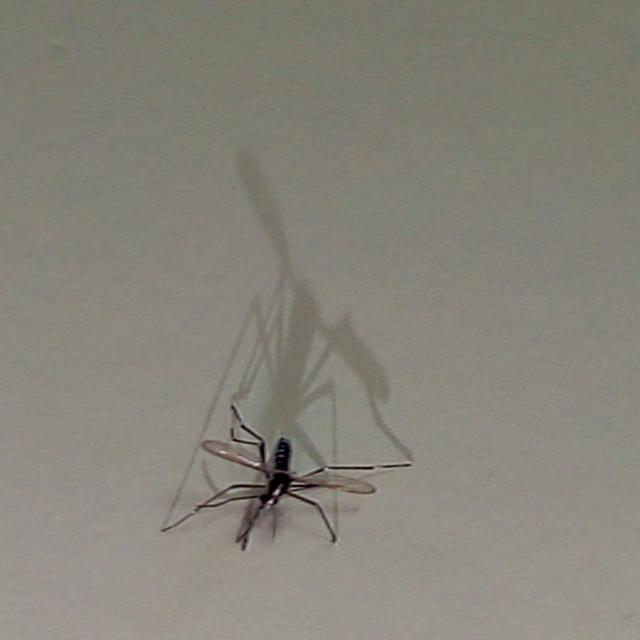albopictus: (157, 393, 409, 555)
